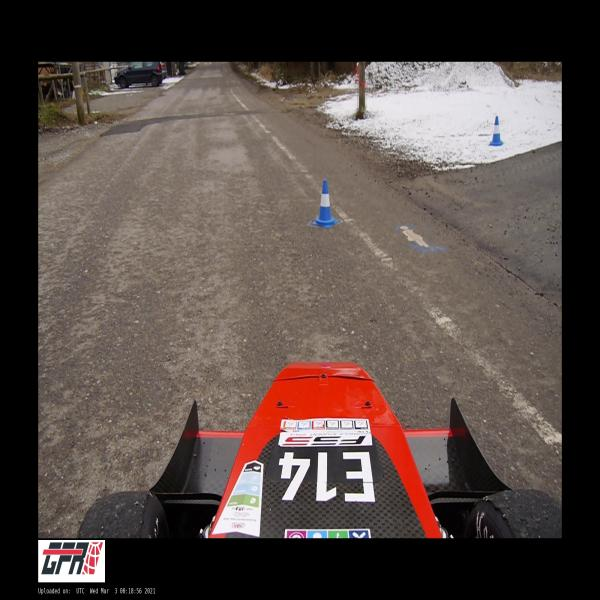blue_cone: (312, 180, 338, 228), (490, 116, 503, 146)
